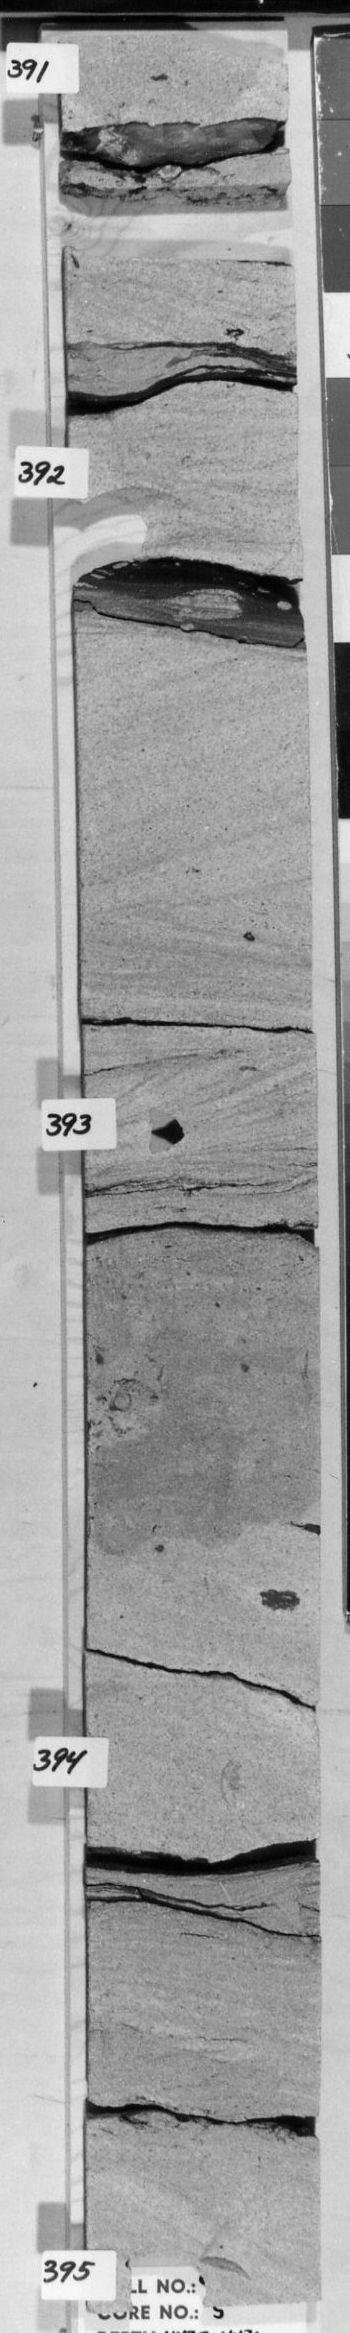hplug: (86, 482, 159, 571), (121, 2248, 217, 2314), (133, 1104, 203, 1166)
scal: (61, 162, 292, 275)
